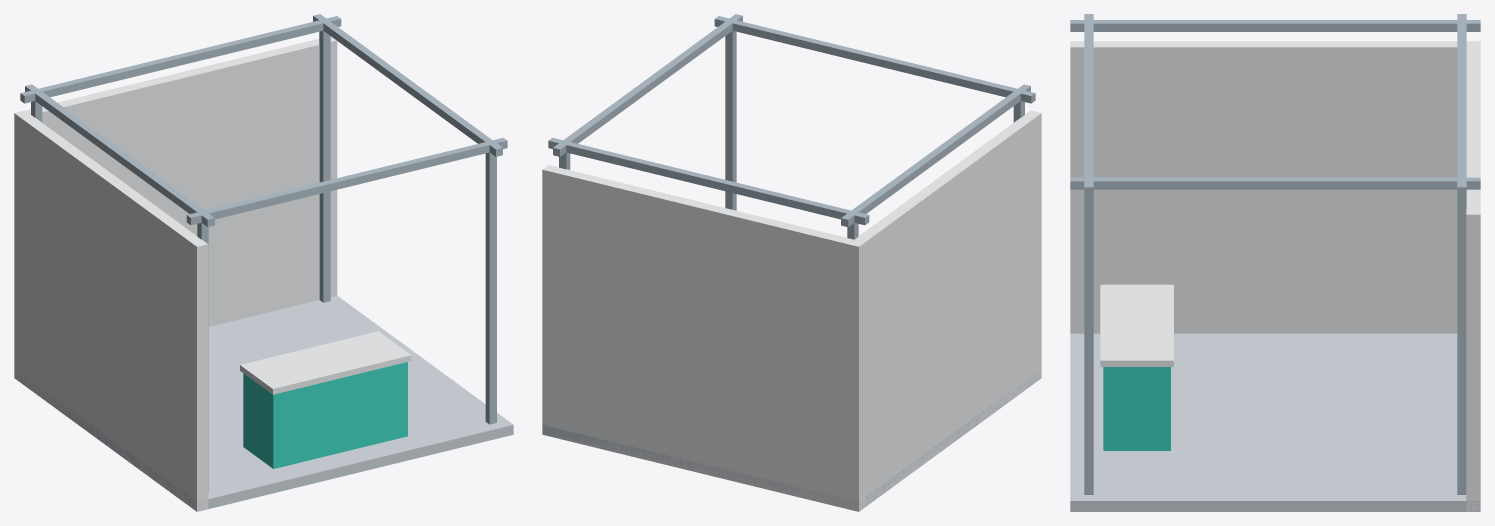
3 views of the same model, side by side, from view 1: azimuth 30°, elevation 25°; view 2: azimuth 150°, elevation 25°; view 3: azimuth 270°, elevation 25° (orthographic). The views are drawn at different scales.
Parts seen in each view (by area): view 1: Exhibition Booth Concept; view 2: Exhibition Booth Concept; view 3: Exhibition Booth Concept.
Boxes of the visible parts, x1,y1,x2,y2 form: Exhibition Booth Concept: (14, 14, 513, 511); Exhibition Booth Concept: (542, 14, 1041, 511); Exhibition Booth Concept: (1070, 14, 1480, 511).
Bounding box in the file's own units: 4 × 3.49 × 4.
